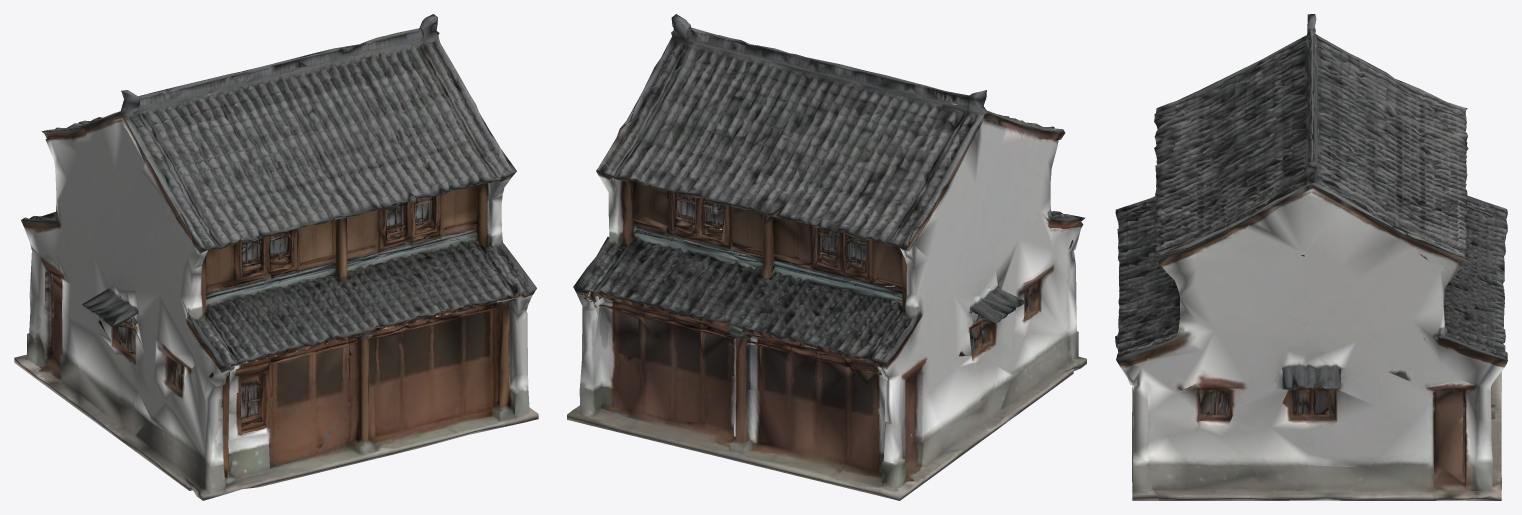
File: bq_house_2f.mid.glb
3 renders of one model, left to right at view 1: azimuth 30°, elevation 25°; view 2: azimuth 150°, elevation 25°; view 3: azimuth 270°, elevation 25°, orthographic. The views are drawn at different scales.
Size of the model in its own units: 1.9 by 1.68 by 1.8.
1 material, 1 textured.
